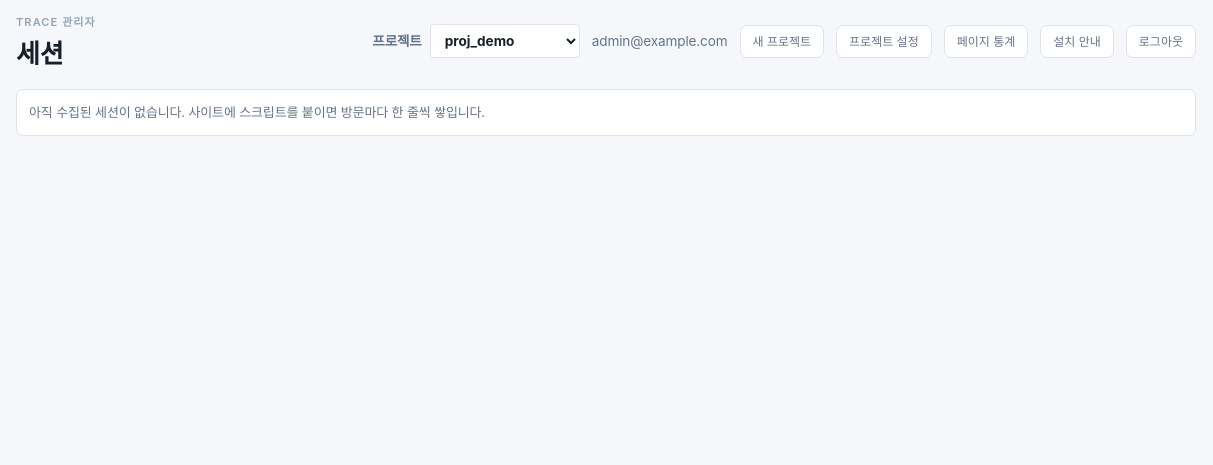
Test: App 페이지 통계 › 페이지 통계 조회가 401을 받으면 로그인 화면으로 전환한다
Click the button "페이지 통계" at (986, 41), box [944, 25, 1028, 58]
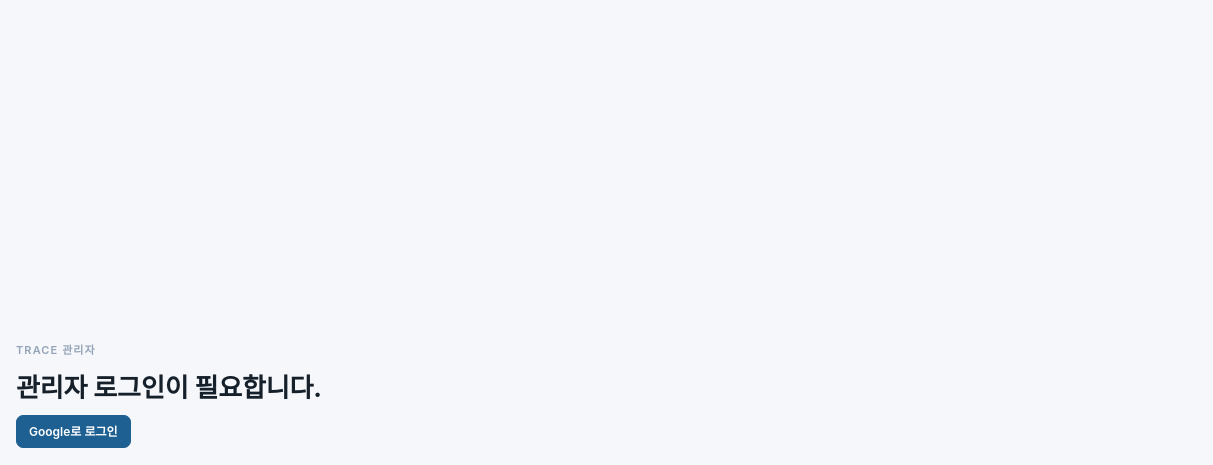
Check: the button "Google로 로그인" is shown, box [16, 415, 130, 448]
